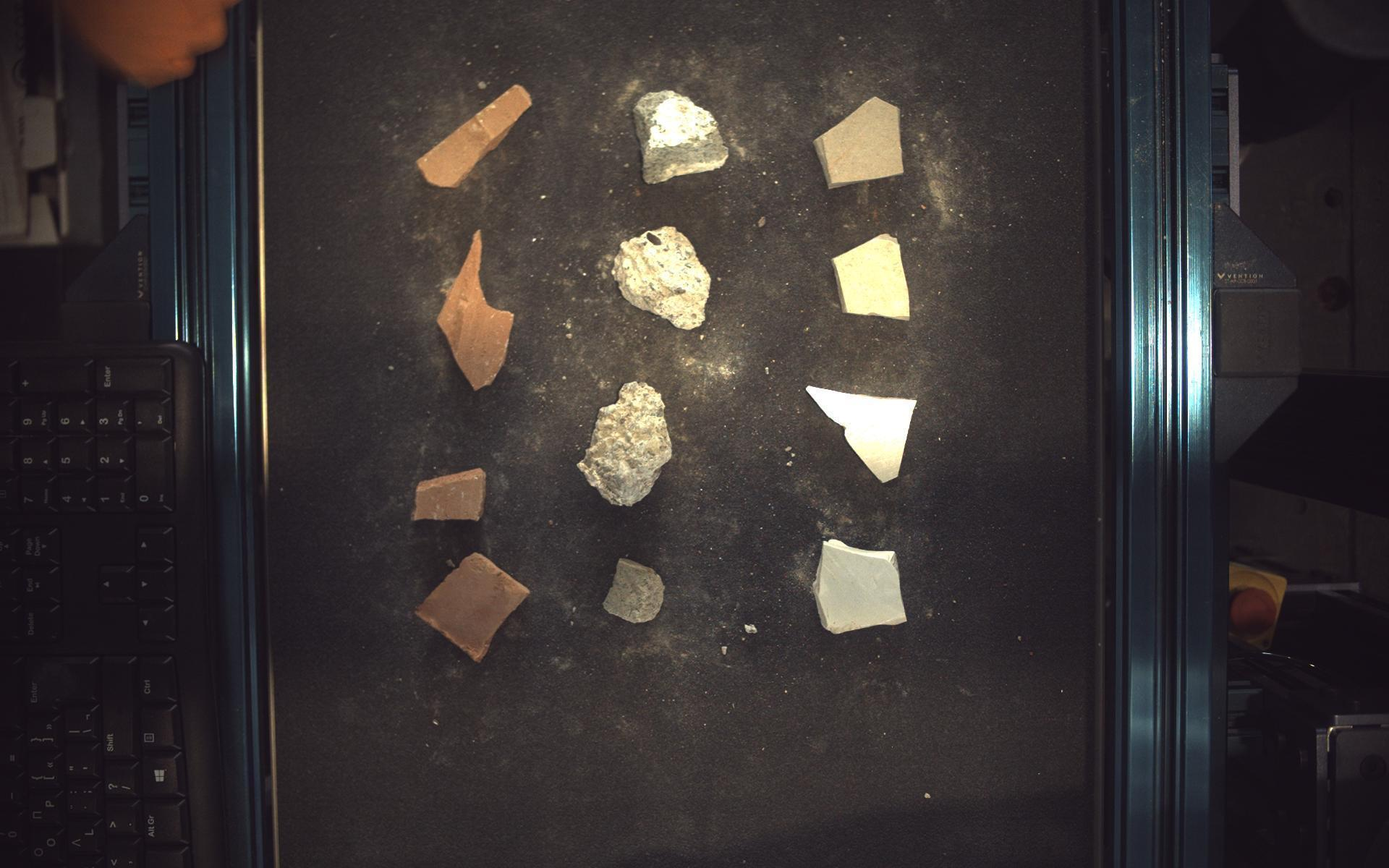brick: (415, 553, 530, 663), (438, 229, 514, 390), (417, 85, 531, 187), (413, 469, 486, 522)
concrete: (578, 382, 673, 506), (613, 226, 712, 330), (634, 89, 729, 183), (603, 559, 665, 624)
tile: (807, 386, 917, 482), (815, 540, 908, 634), (815, 95, 905, 187), (833, 233, 912, 320)
